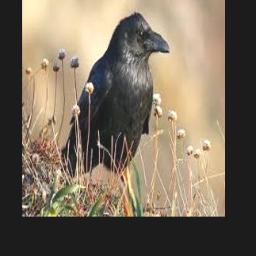Crow: (61, 11, 170, 180)
